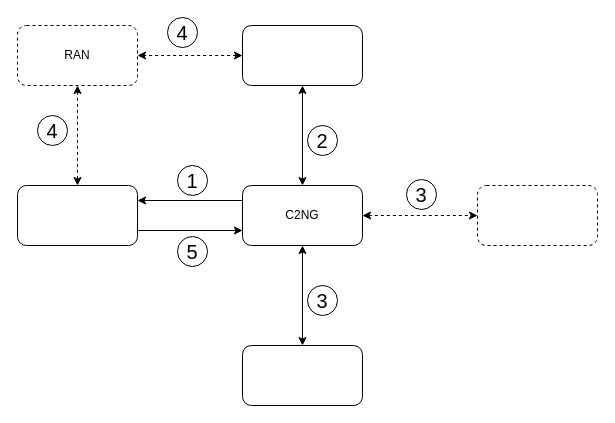
Some shapes in this 615 by 423 pixel diagram are drawn without their labels. Here are the shapes that lost their labels. From the top down, the centre of each, then its label:
At (302,55): "UA EU".
At (77,215): "5G Core".
At (537,215): "UTM B".
At (302,375): "UTM A".
